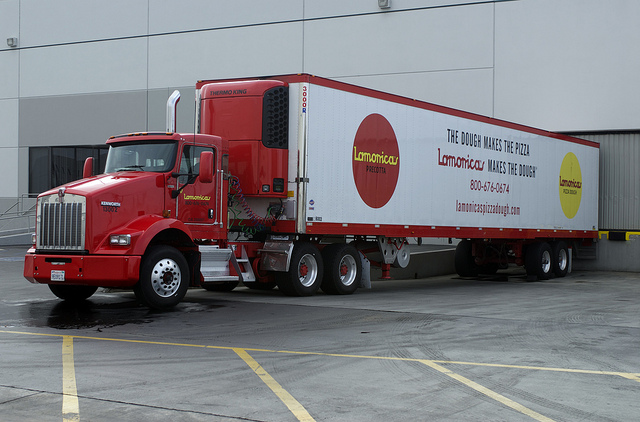Truck: (39, 80, 607, 308)
